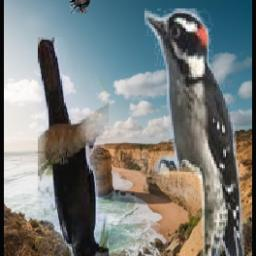Crow: (39, 37, 110, 256), (70, 0, 93, 13)
Woodpecker: (145, 8, 245, 256)
